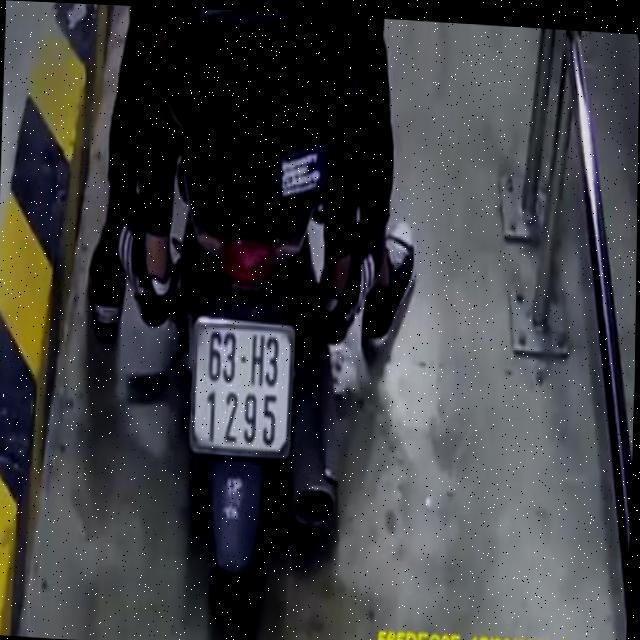motorcycle: (161, 181, 357, 640)
plate: (184, 307, 299, 460)
